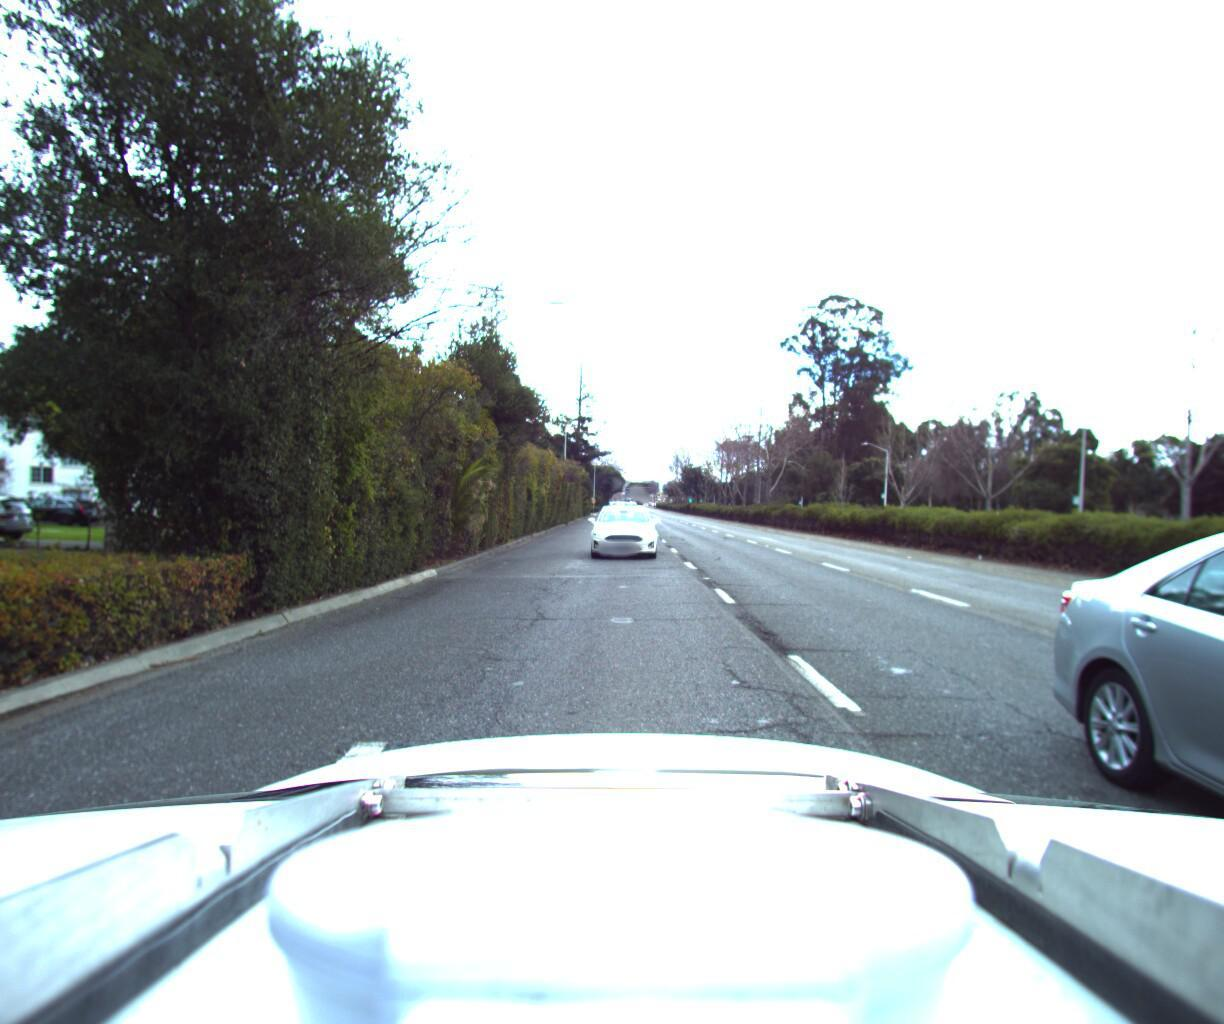car: (1067, 509, 1224, 1024), (584, 496, 659, 557), (0, 494, 108, 534), (0, 489, 38, 546)
